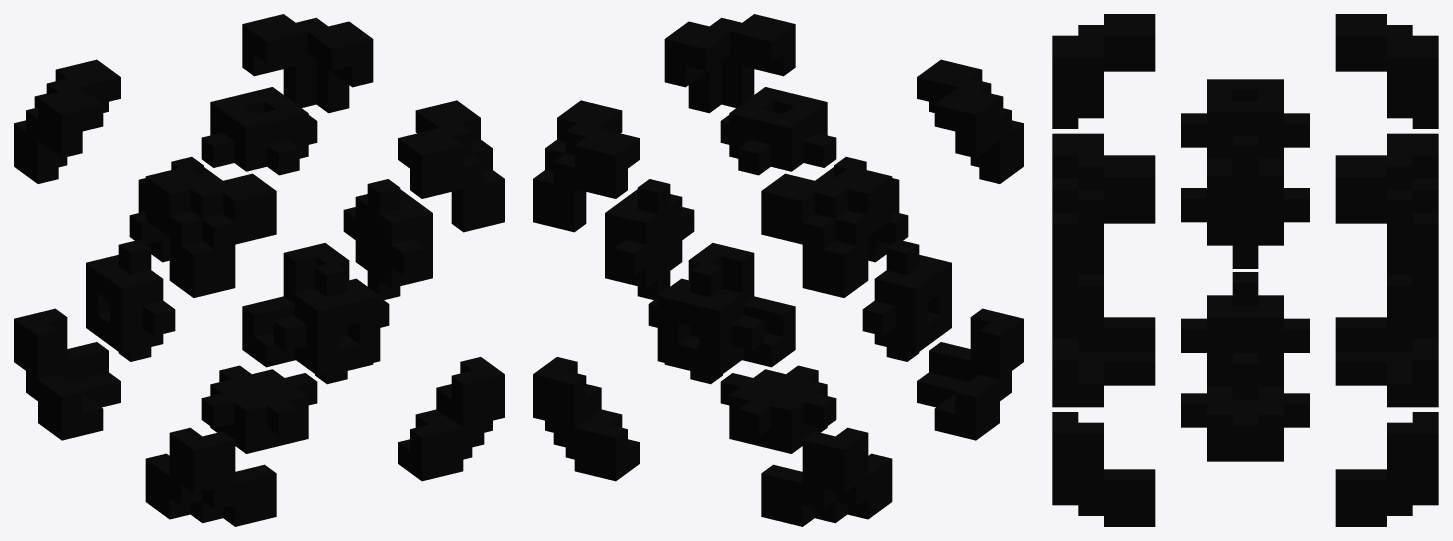
Rendered from 15x15_basic.obj.
The picture shows the model from 3 angles, left to right: view 1: azimuth 30°, elevation 25°; view 2: azimuth 150°, elevation 25°; view 3: azimuth 270°, elevation 25°; orthographic projection. The views are drawn at different scales.
Bounding box in the file's own units: 1.5 × 1.5 × 1.5.
1 material, 1 textured.
